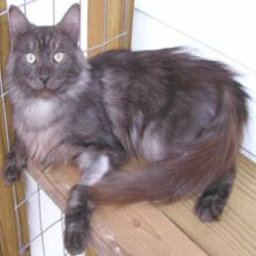cat: (5, 2, 244, 240)
